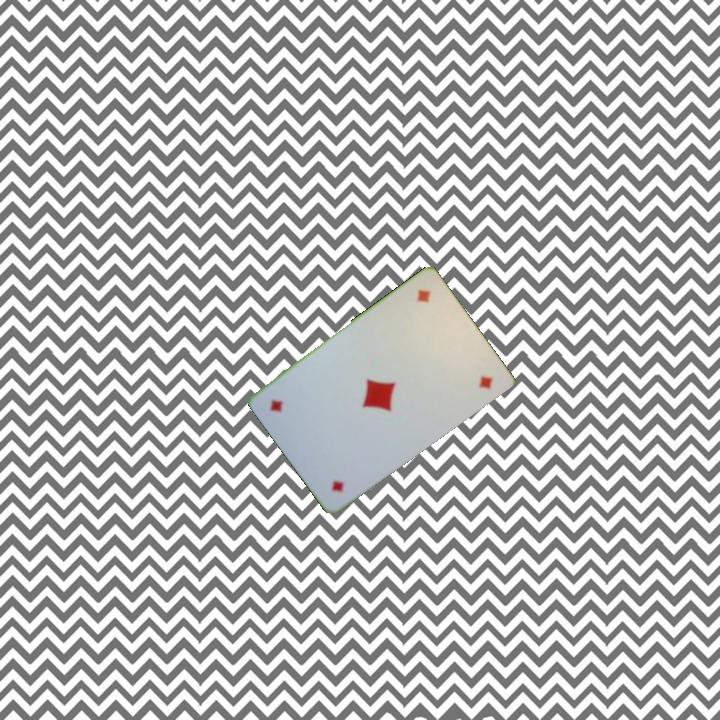d_a.png: (294, 417, 378, 503), (383, 278, 467, 364)
